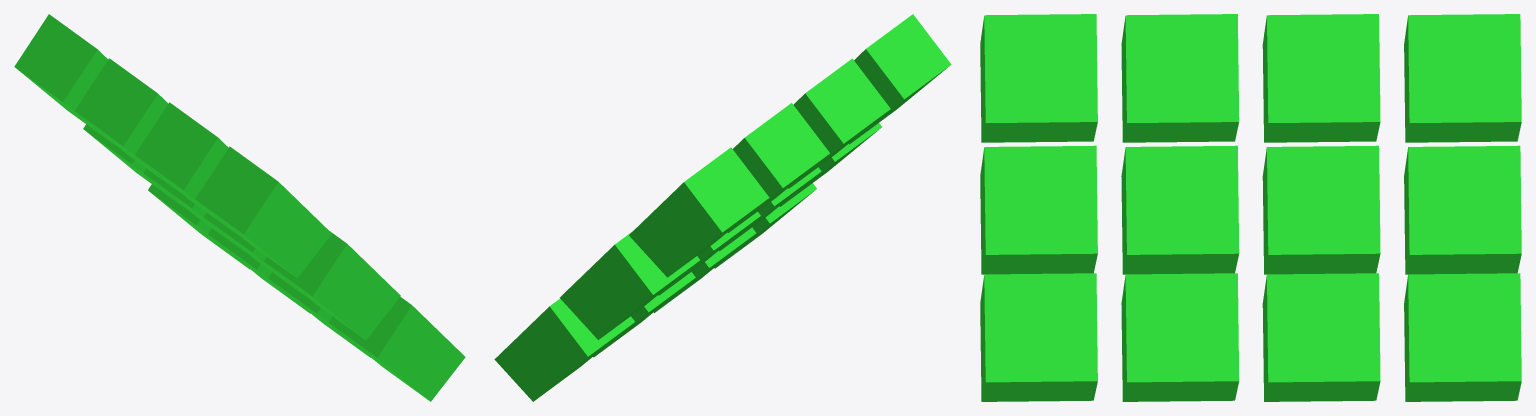
Rendered from computer key 3.fbx.
3 views of the same model, side by side, from view 1: azimuth 30°, elevation 25°; view 2: azimuth 150°, elevation 25°; view 3: azimuth 270°, elevation 25° (orthographic). The views are drawn at different scales.
Parts seen in each view (by area): view 1: Cylinder.017; view 2: Cylinder.017; view 3: Cylinder.017.
Part boxes in pixels (bbox=[...]): Cylinder.017: bbox=[14, 14, 465, 401]; Cylinder.017: bbox=[494, 14, 951, 401]; Cylinder.017: bbox=[980, 14, 1521, 401].
Bounding box in the file's own units: 71.94 × 78.42 × 128.
